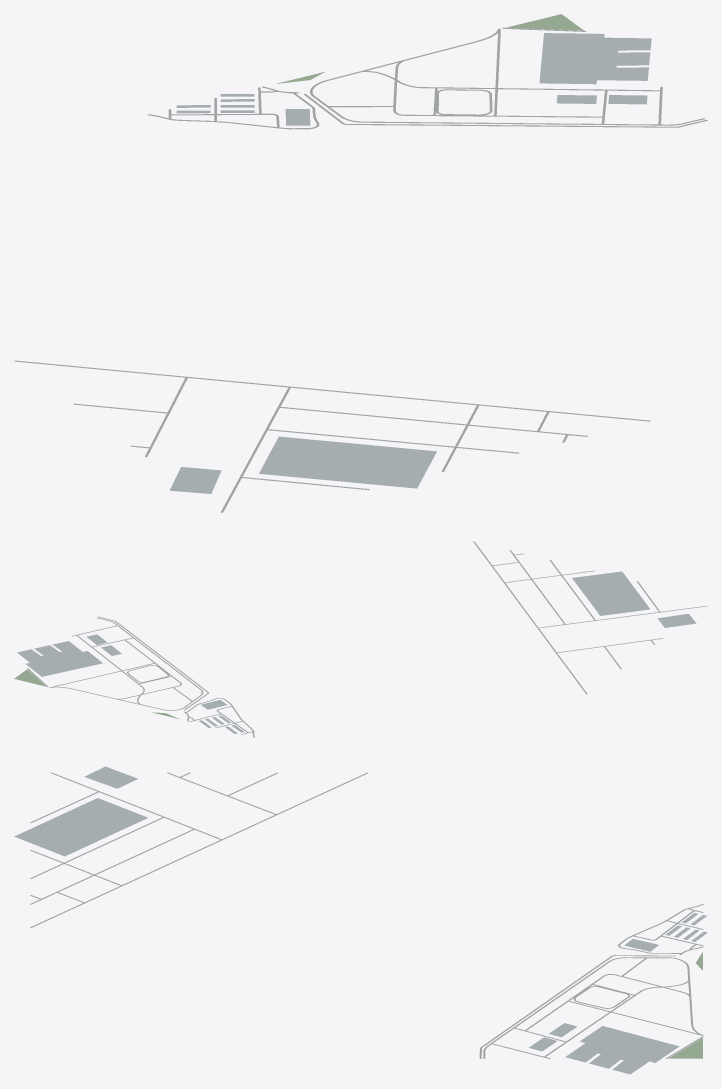
File: -19_-4-known-coarse.glb
3 renders of one model, top to bottom at view 1: azimuth 30°, elevation 25°; view 2: azimuth 150°, elevation 25°; view 3: azimuth 270°, elevation 25°, orthographic. The views are drawn at different scales.
Size of the model in its own units: 1079 by 0.15 by 1027.
